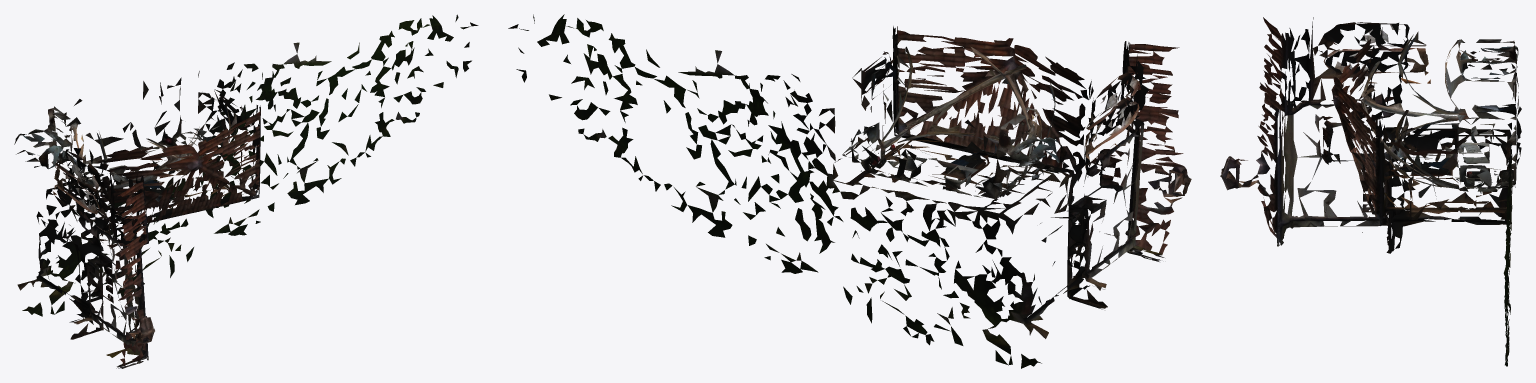
3 views of the same model, side by side, from view 1: azimuth 30°, elevation 25°; view 2: azimuth 150°, elevation 25°; view 3: azimuth 270°, elevation 25° (orthographic). The views are drawn at different scales.
Size of the model in its own units: 22.7 by 9.9 by 10.82.
Materials: 1 (1 with a texture image).
